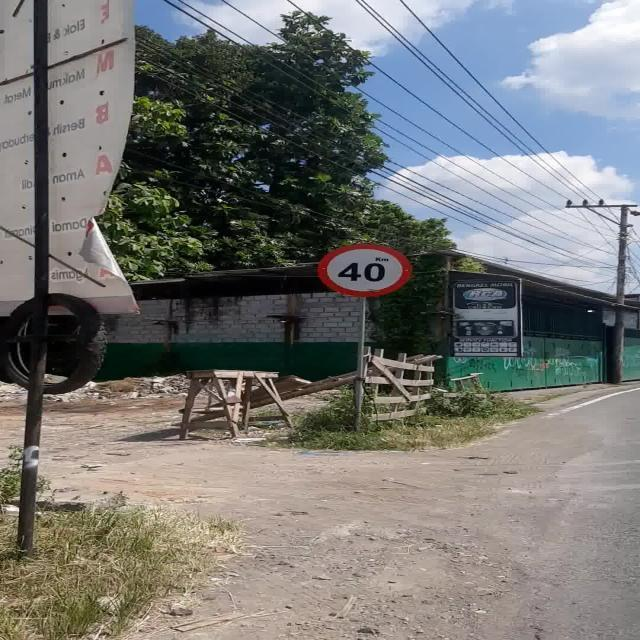Kecepatan Maks. 40 km: (316, 242, 413, 296)
